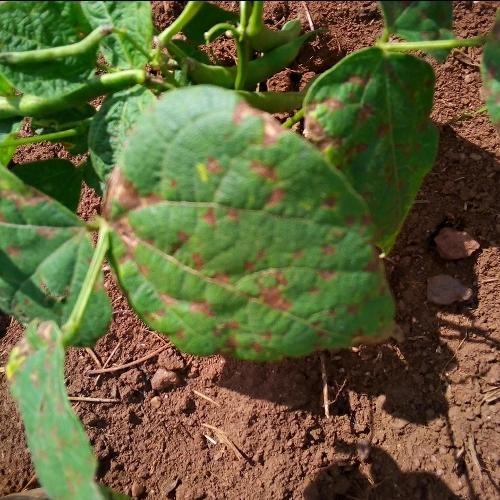embun tepung: (73, 200, 334, 408)
mozaik: (322, 39, 412, 182)
